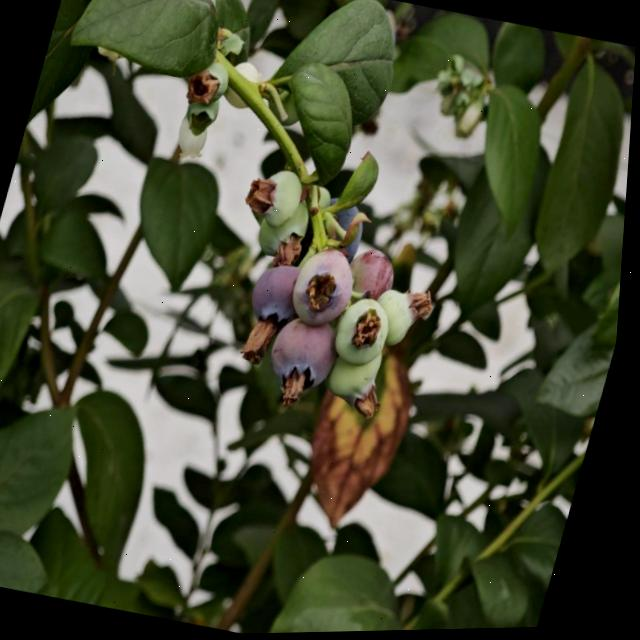Semi-RipeBlueBerry: (267, 314, 351, 399), (289, 244, 367, 333), (248, 261, 309, 330), (348, 248, 405, 305)
UnripeBlueBerry: (335, 295, 402, 371), (240, 165, 309, 234), (255, 201, 315, 265), (329, 349, 389, 412), (374, 287, 429, 351)
